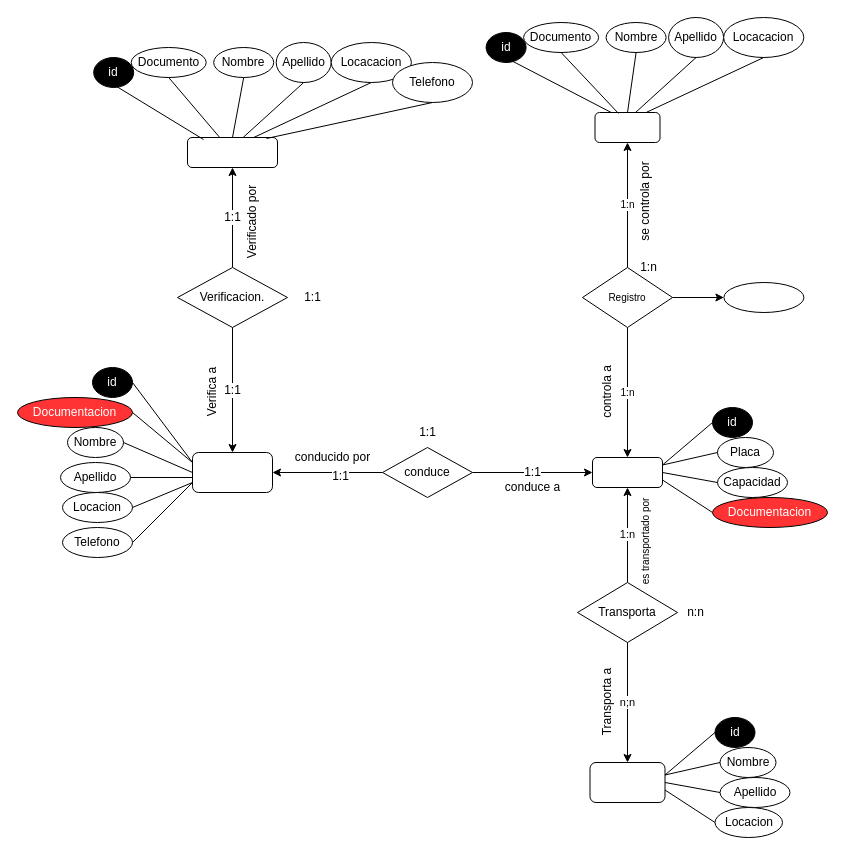
The diagram is 845 pixels wide and 855 high, and some of its shapes have lost their labels. Here are the shapes that lost their labels. From the top down, the centre of each, then its label:
At (627,127): "Regulador".
At (232,152): "Agente Transito".
At (763,297): "id_viaje".
At (232,472): "Conductor".
At (627,472): "Bus".
At (627,782): "Pasejero".
